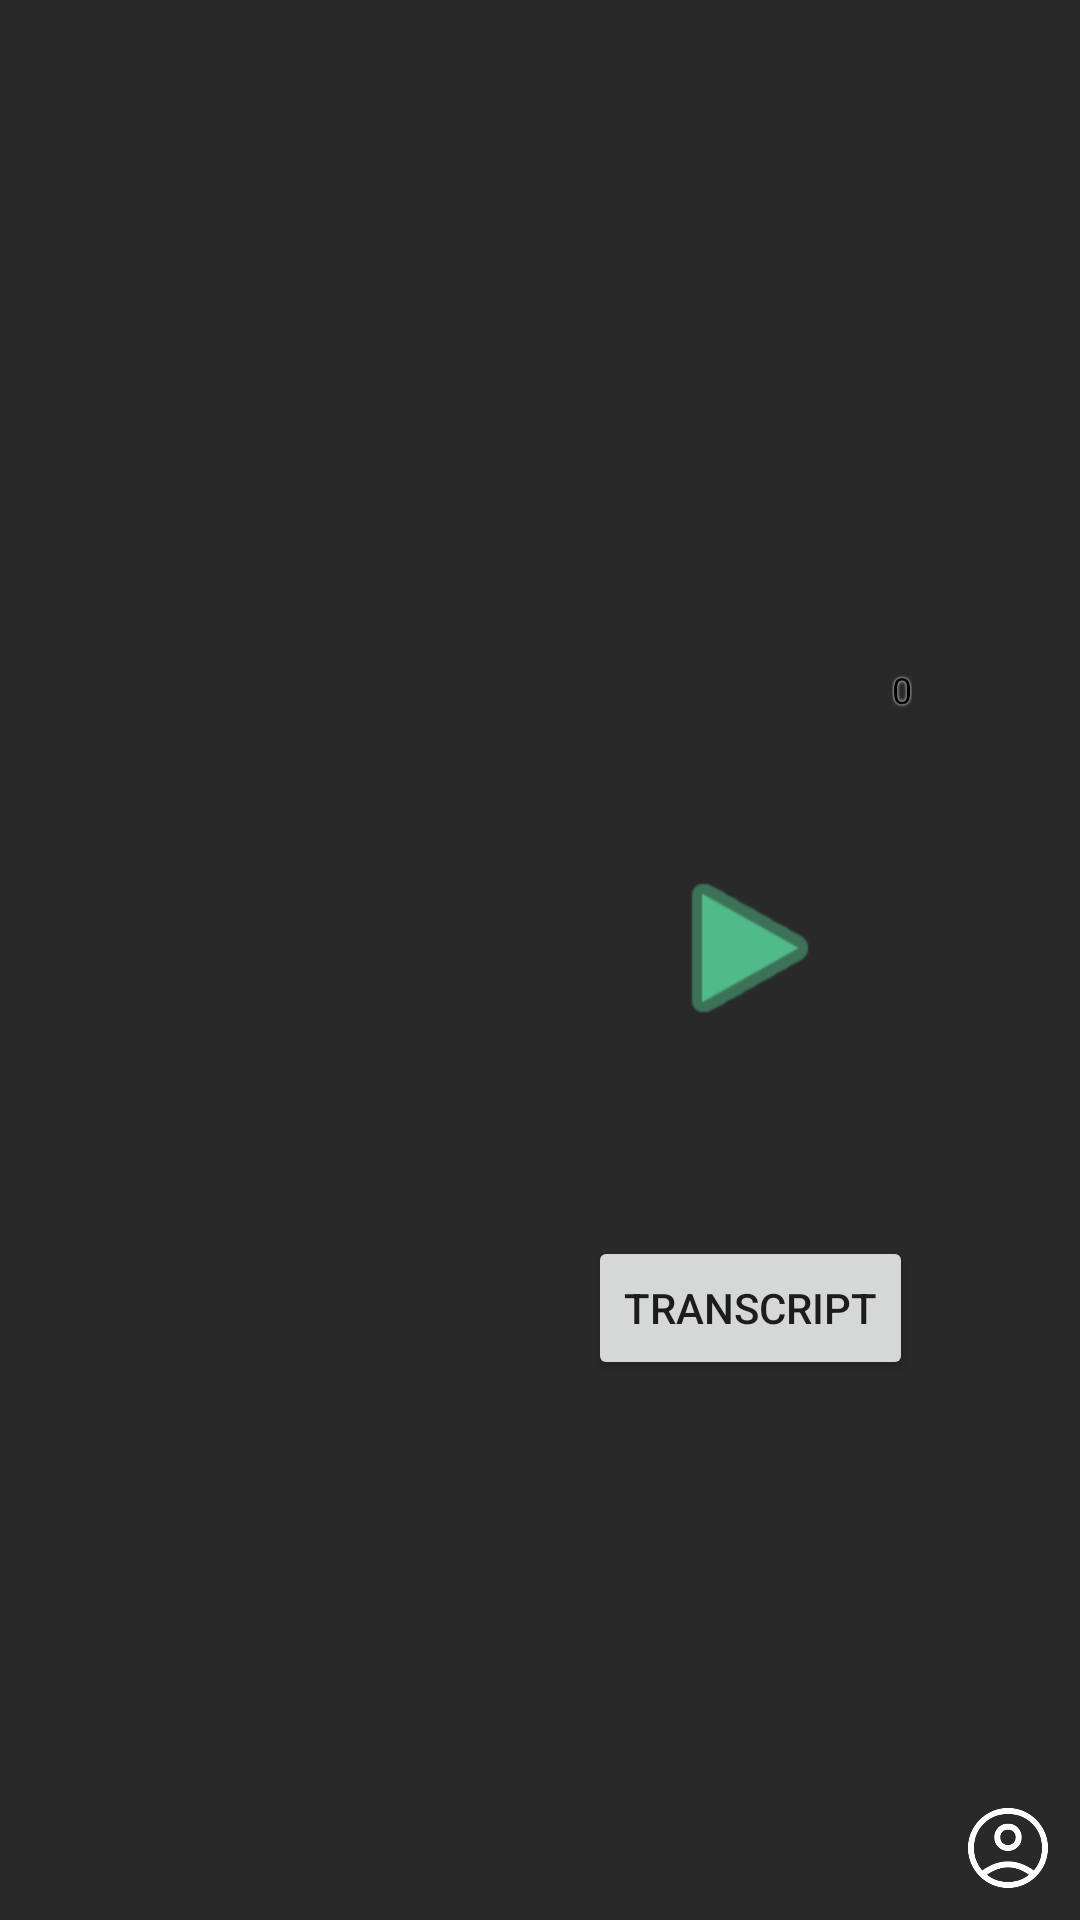

Where icons sit on this 1080px×1920px app screen, as (x1, y1, x2, y2):
account: (968, 1808, 1048, 1888)
play: (692, 884, 808, 1012)
